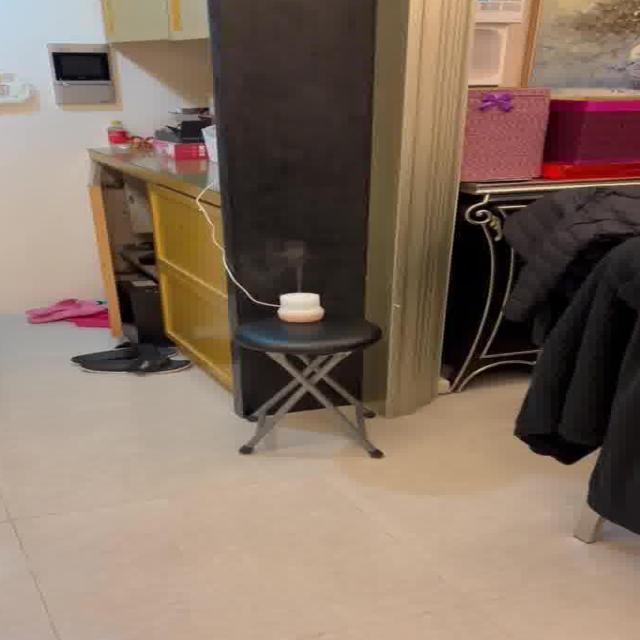fire: (254, 237, 318, 286)
